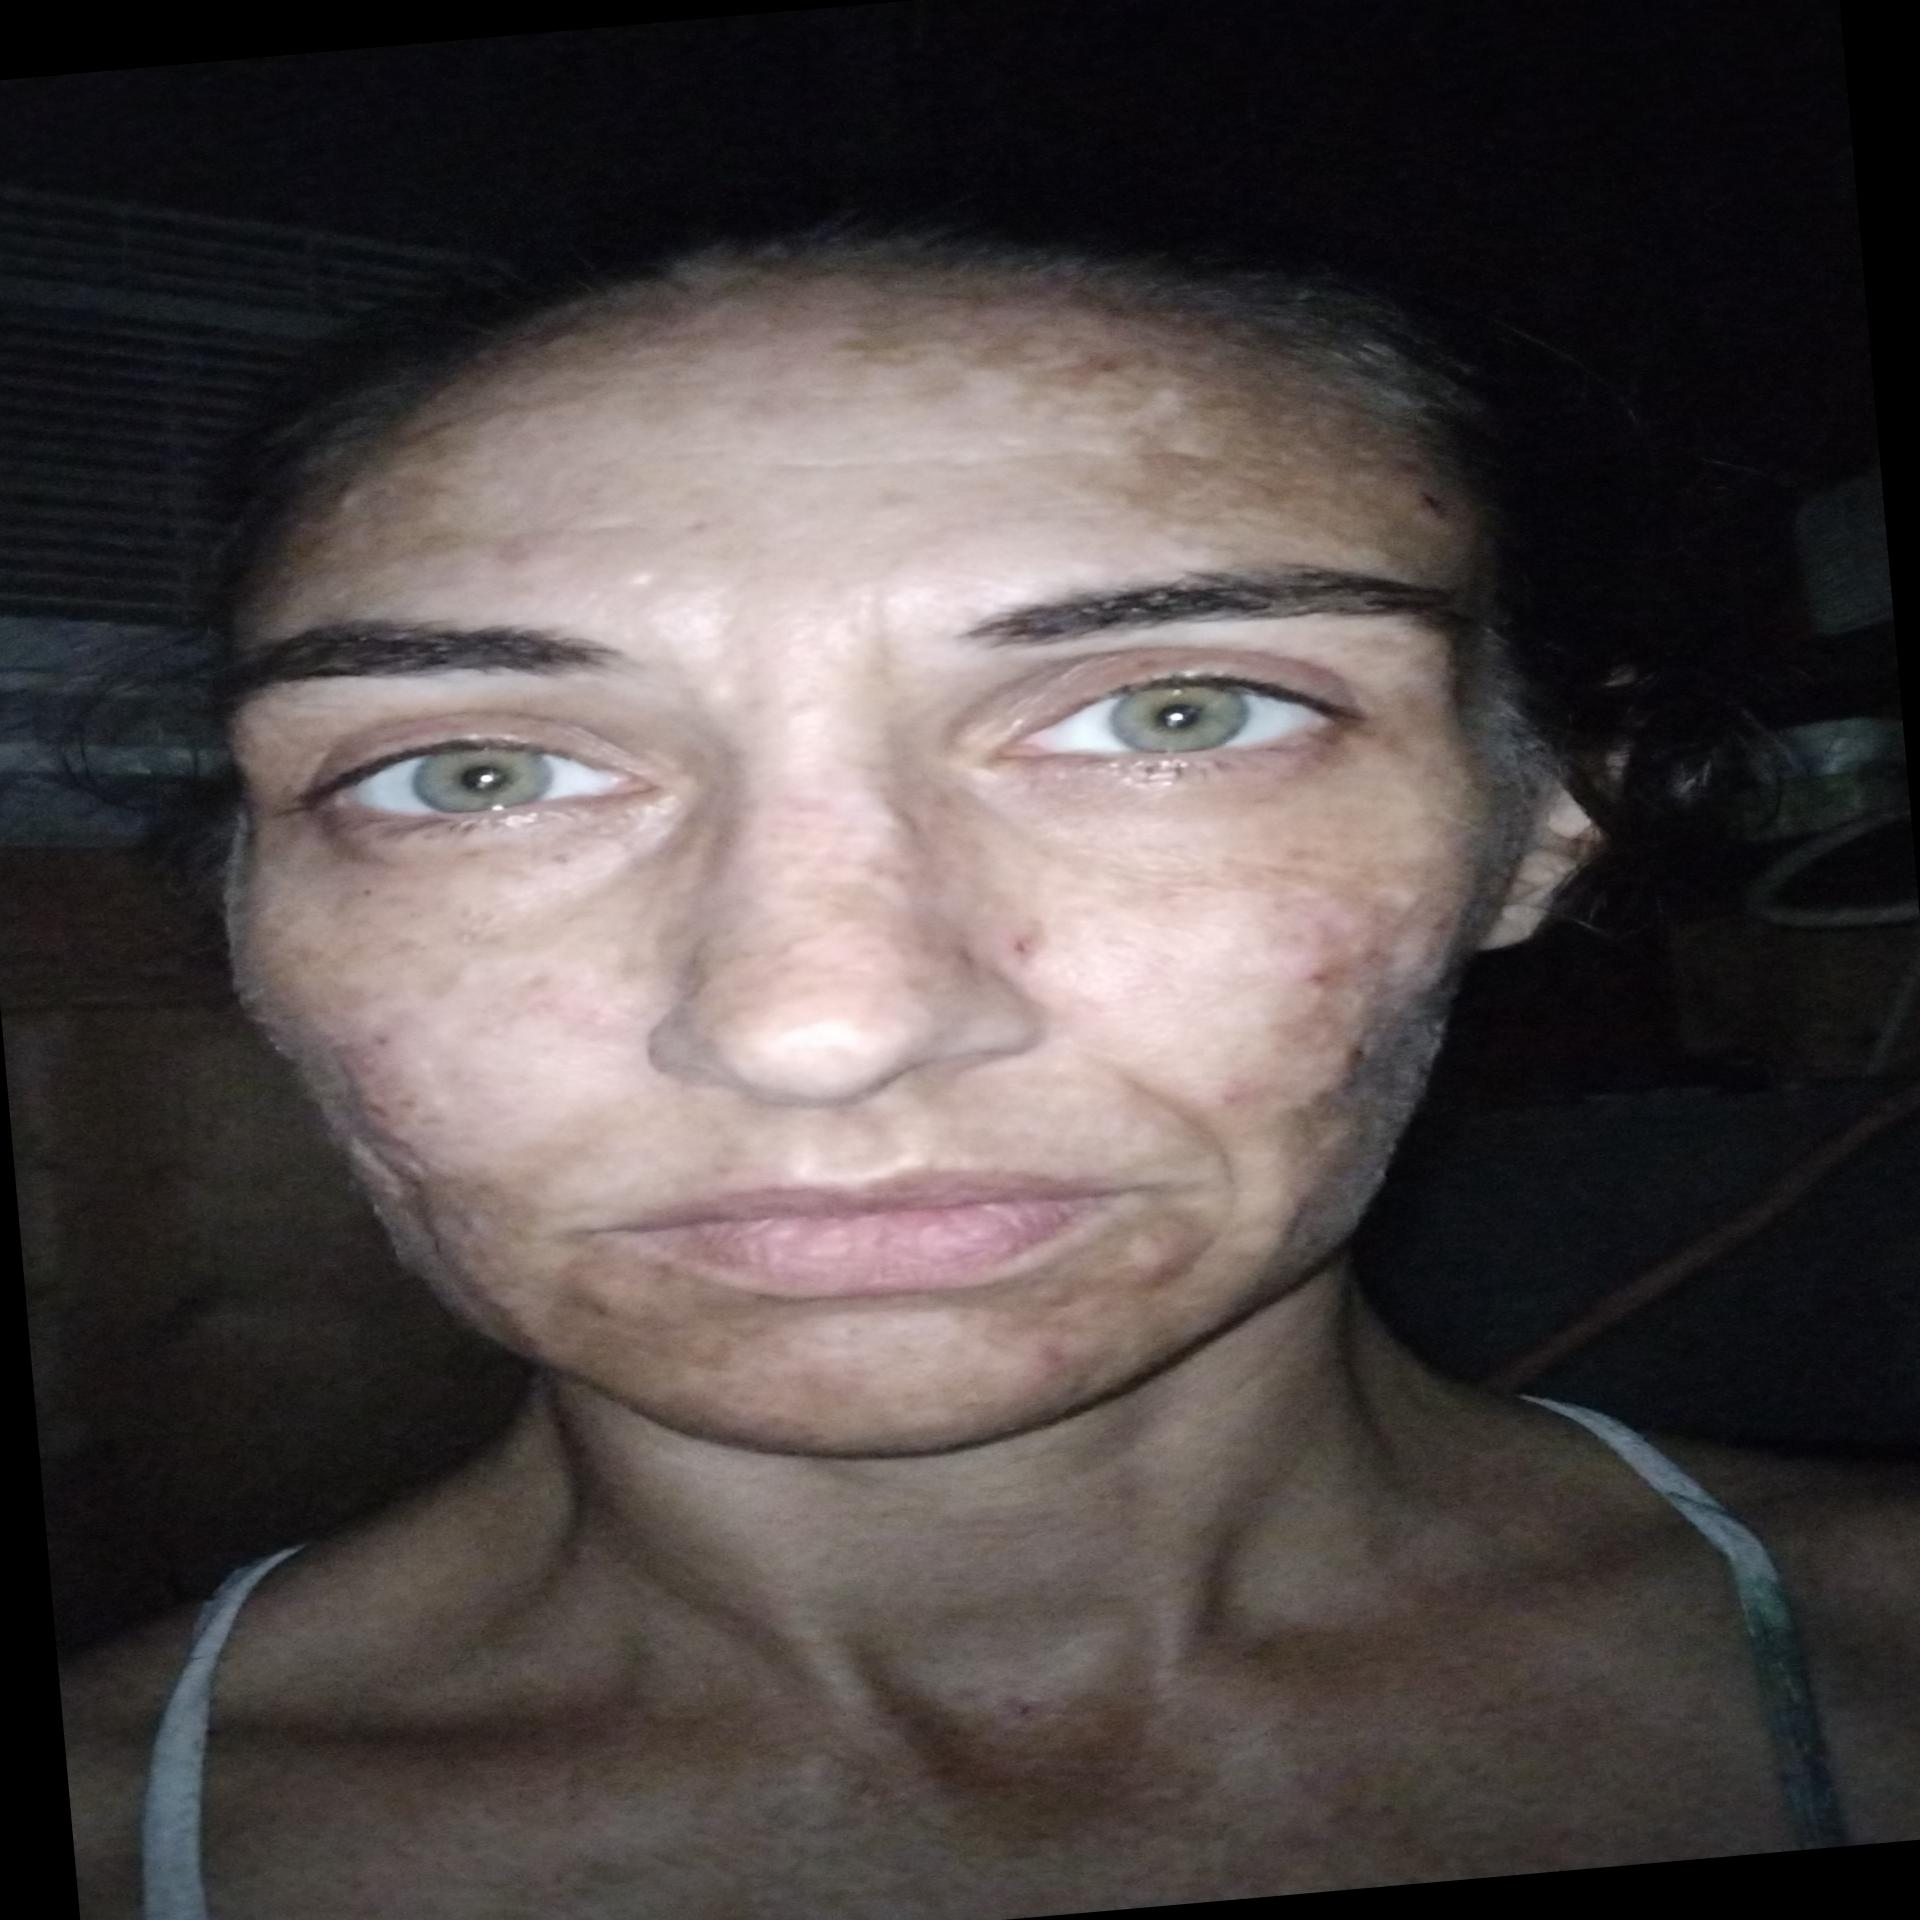Acne: (1125, 1210, 1217, 1285), (1400, 476, 1470, 540), (482, 527, 552, 570), (997, 927, 1053, 971), (1032, 1340, 1083, 1387), (1074, 352, 1138, 385), (1343, 935, 1398, 972), (1335, 1036, 1380, 1080), (1291, 916, 1340, 953), (1027, 1280, 1073, 1315), (1292, 964, 1347, 992), (364, 1092, 403, 1125)
Wrinkles: (1097, 1053, 1269, 1308), (756, 413, 1227, 503), (716, 362, 1065, 417), (837, 580, 904, 698)
